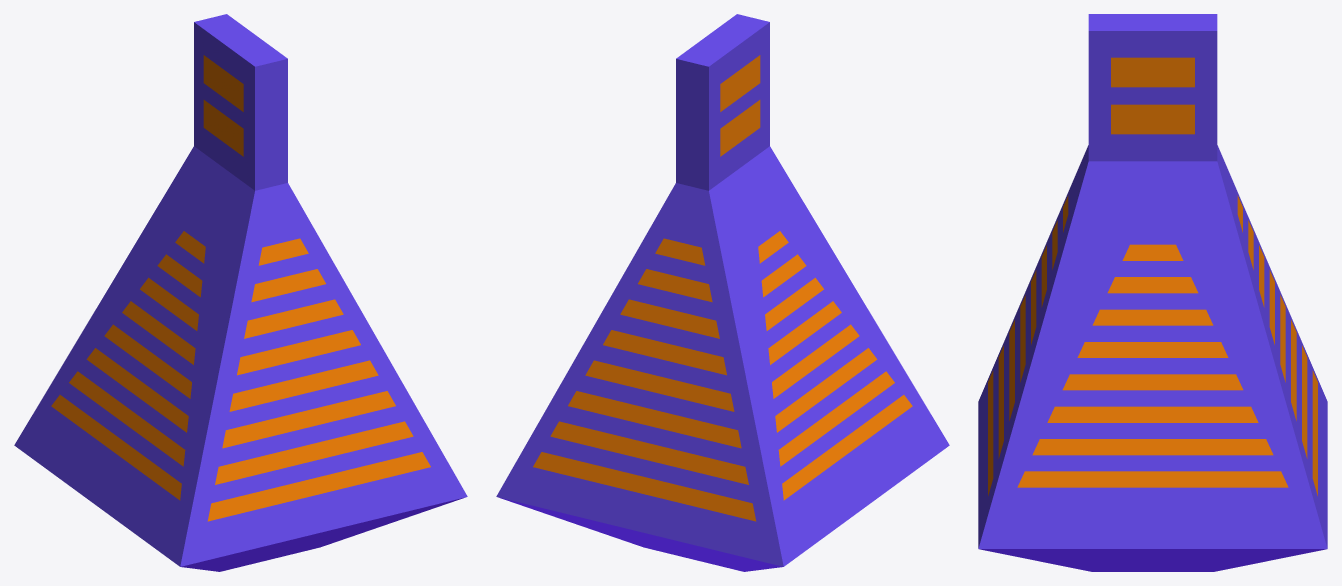
Rendered from Building_016_b.fbx.
3 views of the same model, side by side, from view 1: azimuth 30°, elevation 25°; view 2: azimuth 150°, elevation 25°; view 3: azimuth 270°, elevation 25° (orthographic). The views are drawn at different scales.
Parts seen in each view (by area): view 1: Building_016_b; view 2: Building_016_b; view 3: Building_016_b.
Part boxes in pixels (x1,y1,x2,y2): Building_016_b: (14,14,467,571); Building_016_b: (496,14,949,571); Building_016_b: (978,14,1327,571).
Bounding box in the file's own units: 24.75 × 40.97 × 24.75.
